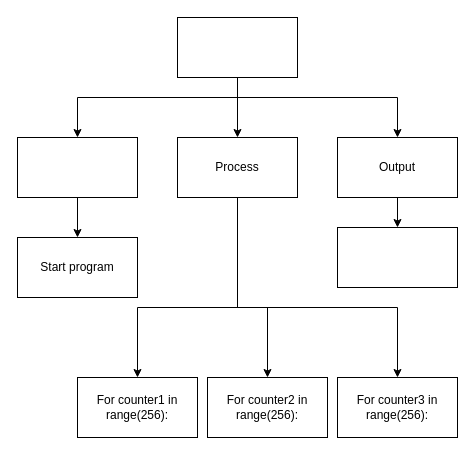
Image size: 475x455. Some labels were removed from this diagram. The centre of each missing label's shape, as x and y in pixels:
"Input" belongs at point (77, 167).
"Nested loop" belongs at point (237, 47).
"show all the RGB values" belongs at point (397, 257).
